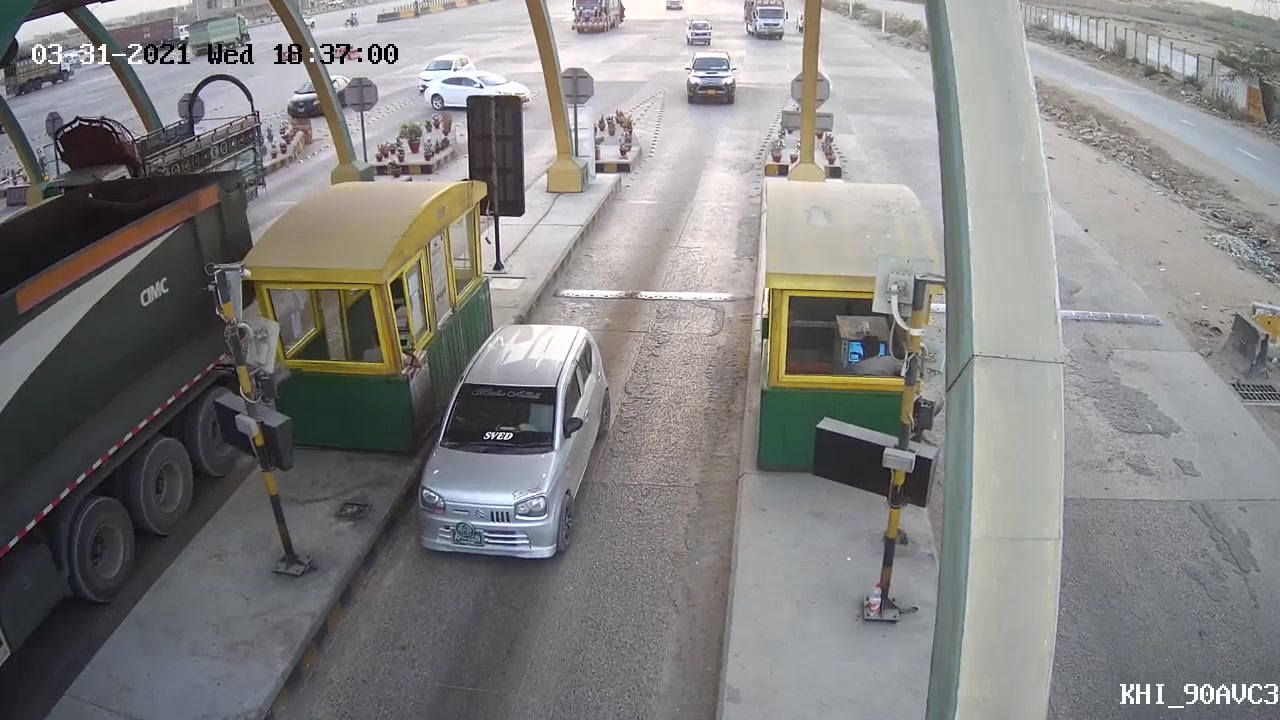F1: (410, 318, 619, 563)
